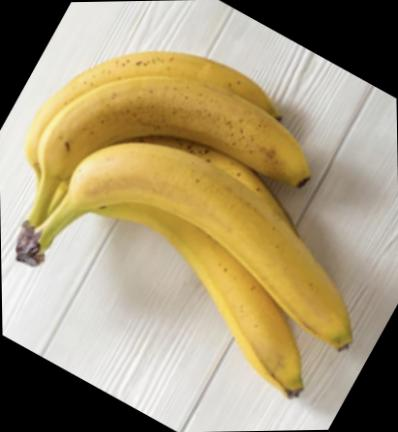Banana Ripe: (0, 7, 395, 399)
